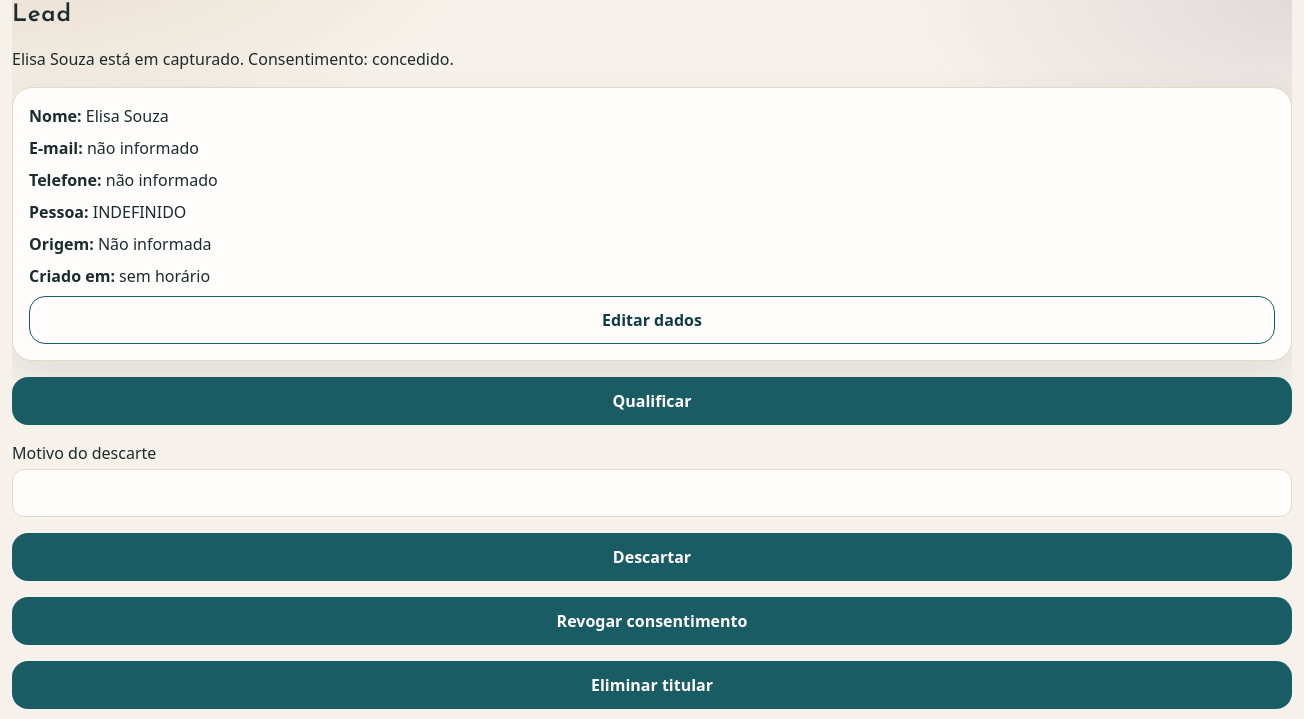
Test: confirmação de revogação e eliminação › não envia no primeiro toque e só elimina com ELIMINAR
Expected: the text "Elisa Souza está em capturado. Consentimento: concedido." is shown, [12,48,454,70]
Click the button "Revogar consentimento": coordinates (652, 621) [12,597,1292,645]
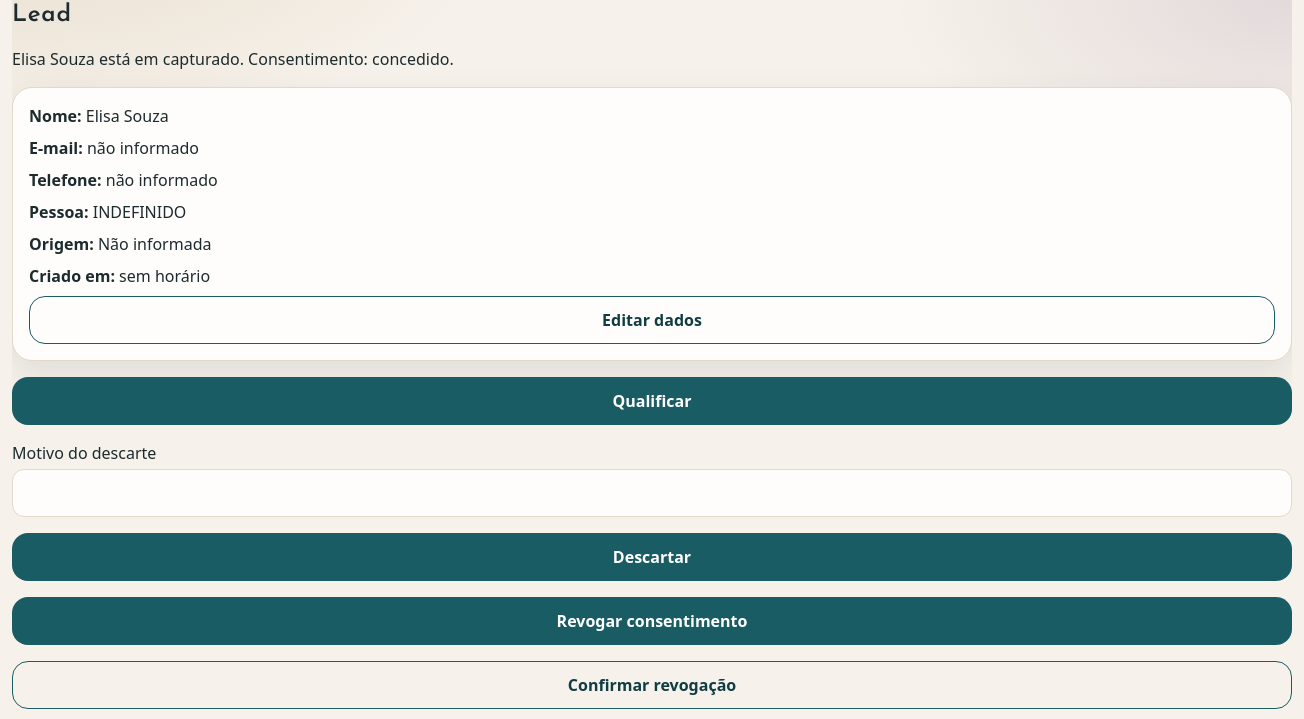
Click the button "Confirmar revogação": coordinates (652, 685) [12,661,1292,709]
(page scrolled)
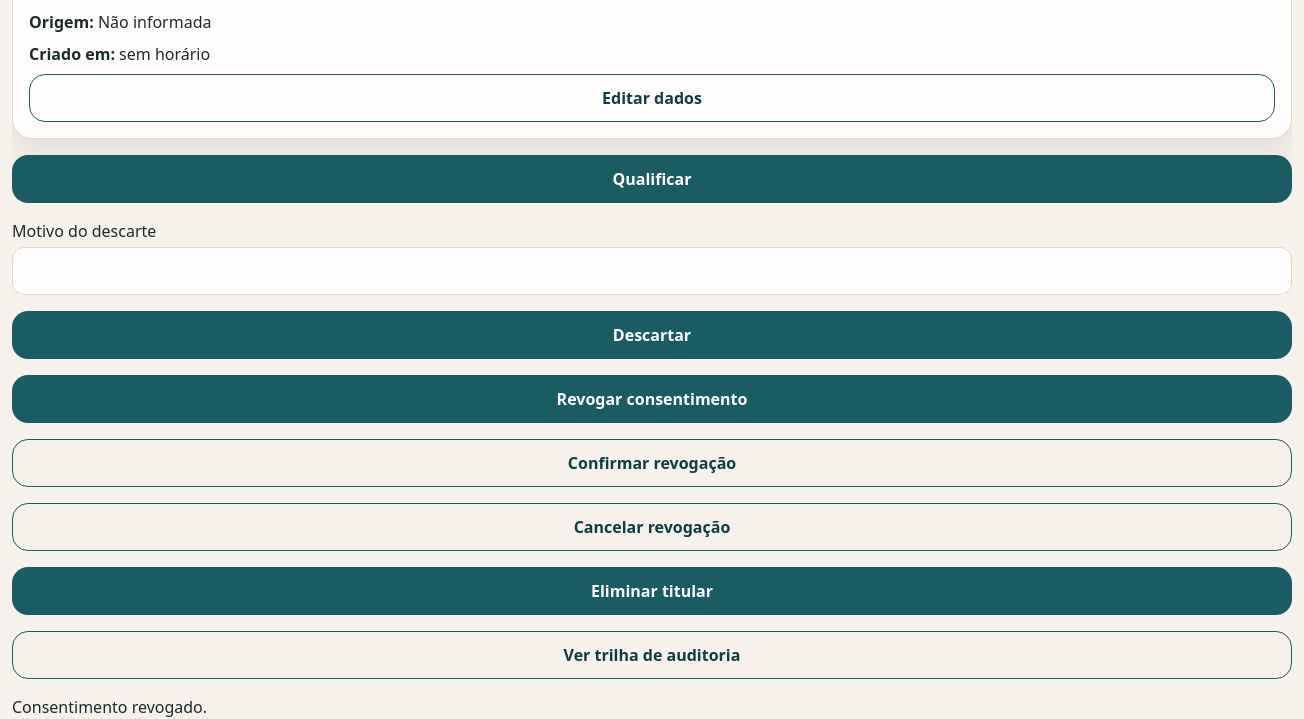
Now the text "Consentimento revogado." is shown, box [12,696,207,718]
Click the button "Eliminar titular": coordinates (652, 591) [12,567,1292,615]
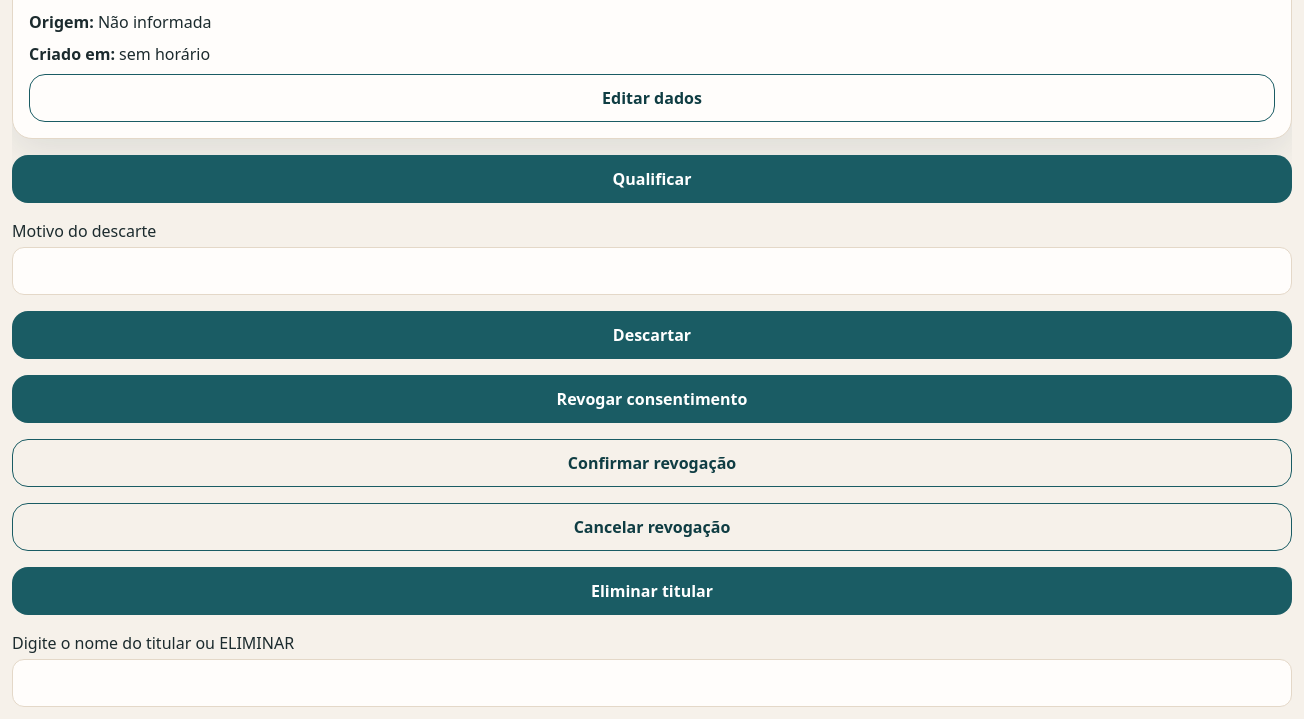
In the field labelled "Digite o nome do titular ou ELIMINAR": coordinates (652, 683) [12,659,1292,707], type "ELIMINAR"
(page scrolled)
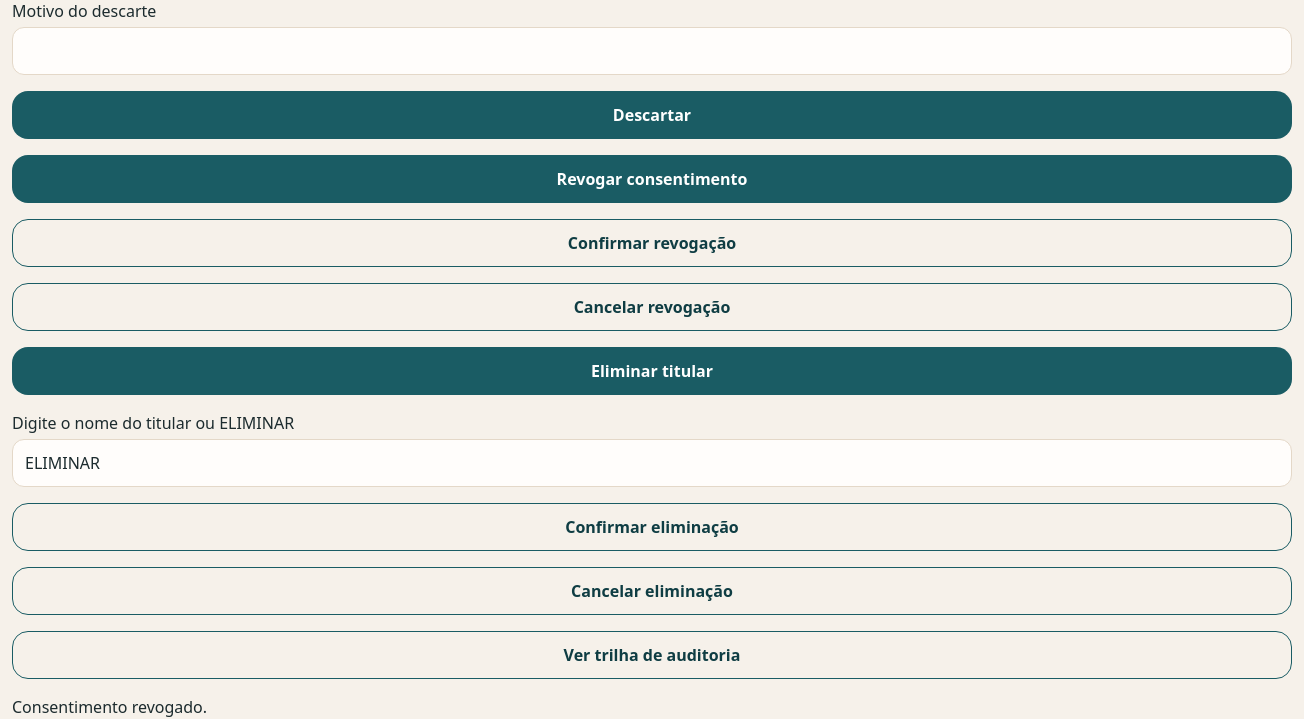
Now the button "Confirmar eliminação" is enabled
Click the button "Confirmar eliminação": coordinates (652, 527) [12,503,1292,551]
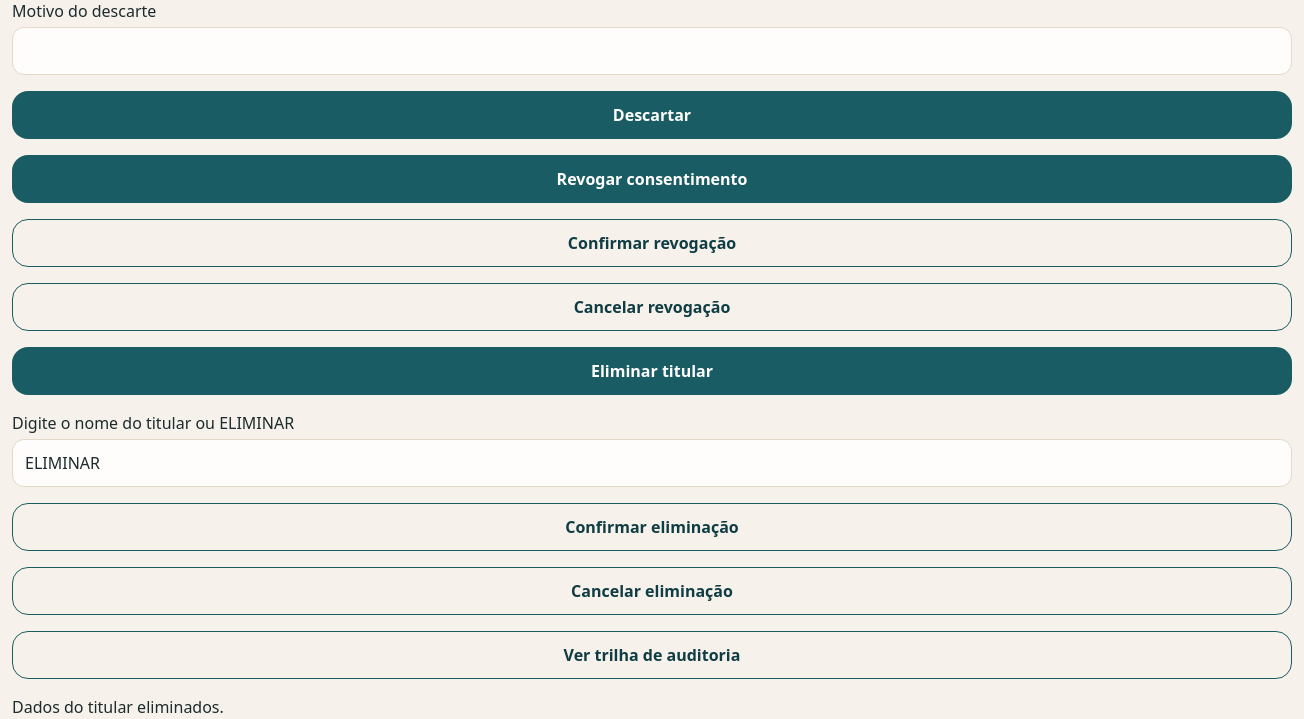
Now the text "Dados do titular eliminados." is shown, box [12,696,224,718]
